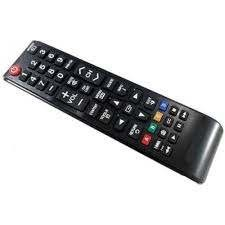remote control: (2, 32, 225, 195)
